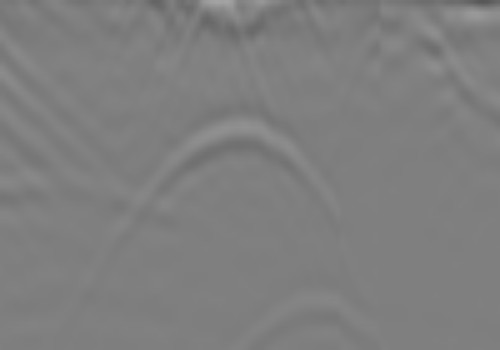hyperbola: (82, 117, 374, 270), (170, 1, 263, 89)
